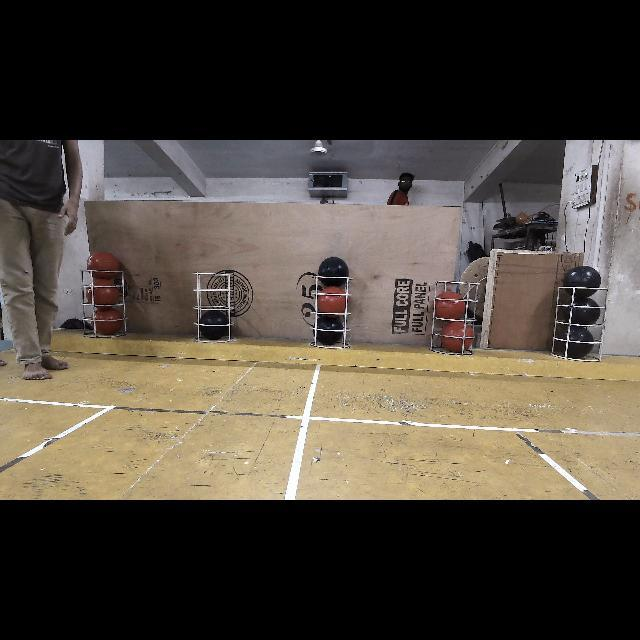P: (562, 266, 601, 299), (559, 328, 593, 358), (564, 298, 600, 326), (319, 256, 349, 286), (200, 310, 228, 340), (314, 316, 342, 344)
R: (441, 321, 474, 352), (85, 278, 119, 308), (316, 285, 348, 315), (433, 292, 465, 322), (86, 251, 120, 279), (92, 306, 122, 336)
S: (552, 283, 612, 365), (432, 279, 484, 355), (80, 268, 130, 342), (310, 274, 356, 352), (192, 270, 236, 344)
